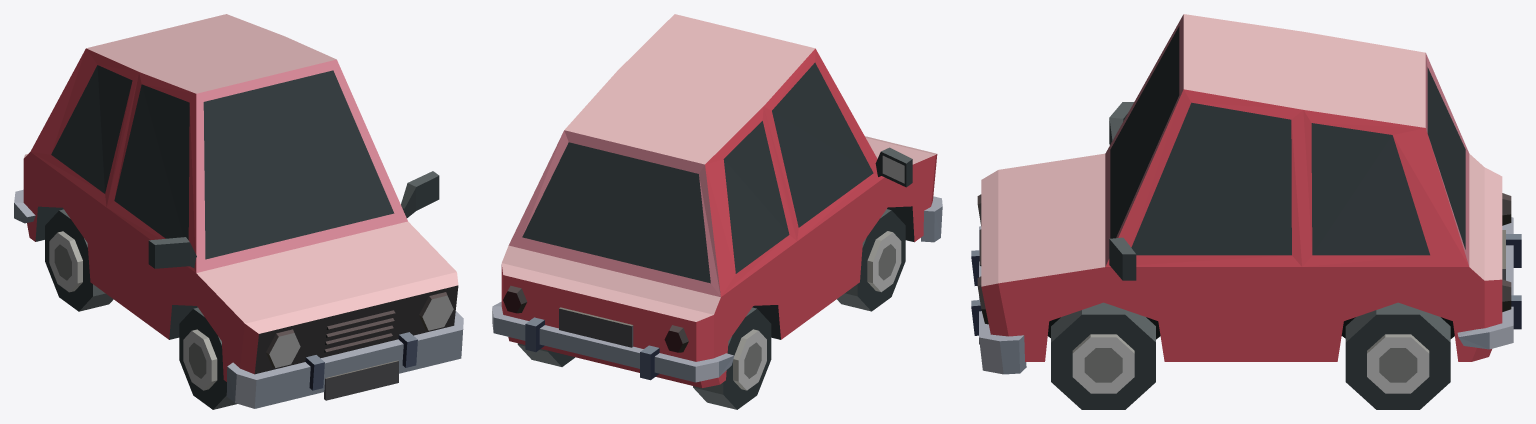
The model's file is TB_CITY_Car_Small_D.FBX.
The picture shows the model from 3 angles, left to right: view 1: azimuth 30°, elevation 25°; view 2: azimuth 150°, elevation 25°; view 3: azimuth 270°, elevation 25°; orthographic projection. The views are drawn at different scales.
Visible parts, largest first — view 1: TB_CITY_Car_Small_D, TB_Car_Small_Wheel010, TB_Car_Small_Wheel009; view 2: TB_CITY_Car_Small_D, TB_Car_Small_Wheel010, TB_Car_Small_Wheel009, TB_Car_Small_Wheel011; view 3: TB_CITY_Car_Small_D, TB_Car_Small_Wheel011, TB_Car_Small_Wheel012.
Part boxes in pixels (bbox=[...]): TB_CITY_Car_Small_D: bbox=[14, 14, 463, 408]; TB_Car_Small_Wheel010: bbox=[45, 209, 113, 311]; TB_Car_Small_Wheel009: bbox=[179, 307, 237, 409]; TB_CITY_Car_Small_D: bbox=[492, 14, 942, 388]; TB_Car_Small_Wheel010: bbox=[693, 307, 771, 409]; TB_Car_Small_Wheel009: bbox=[837, 209, 905, 311]; TB_Car_Small_Wheel011: bbox=[517, 343, 574, 366]; TB_CITY_Car_Small_D: bbox=[971, 14, 1521, 374]; TB_Car_Small_Wheel011: bbox=[1345, 302, 1450, 409]; TB_Car_Small_Wheel012: bbox=[1051, 302, 1155, 409].
Bounding box in the file's own units: 3.12 × 2.88 × 4.76.
